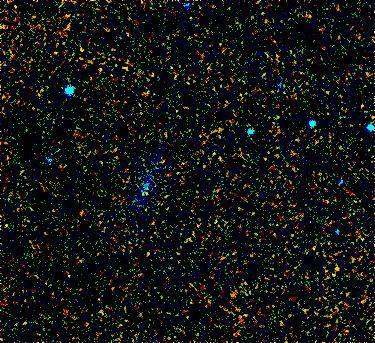star: (131, 176, 161, 206)
